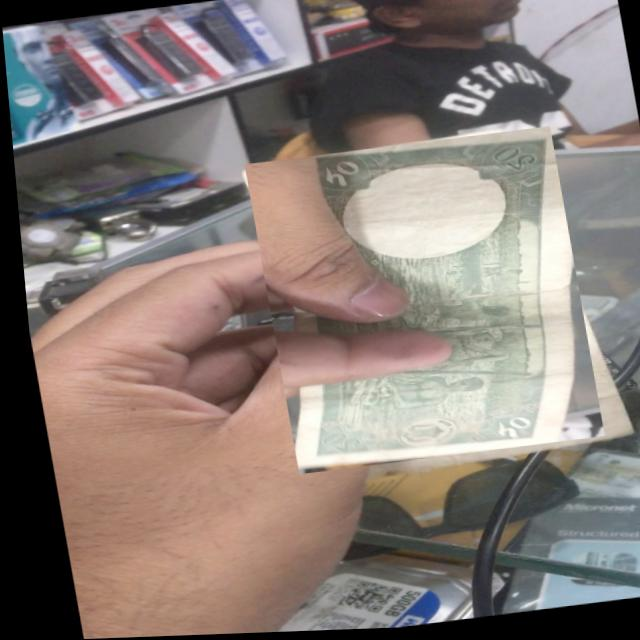Taka: (239, 129, 598, 477)
